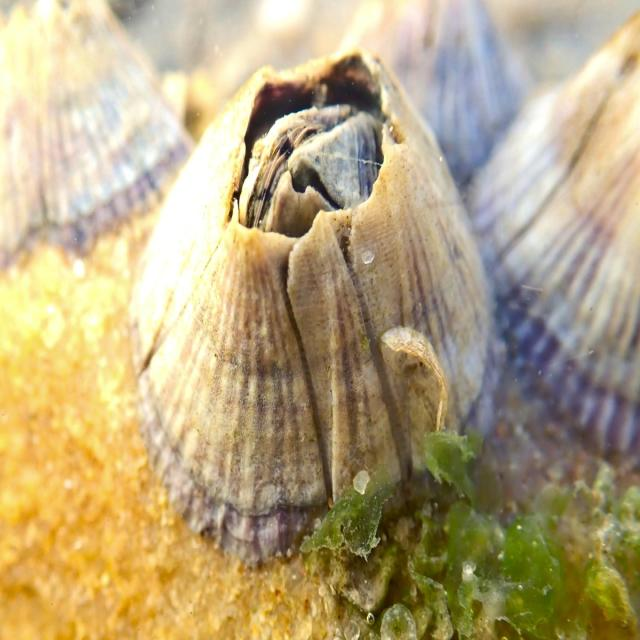barnacles: (143, 52, 499, 568)
